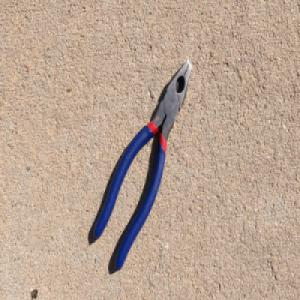Pliers: (91, 59, 190, 272)
